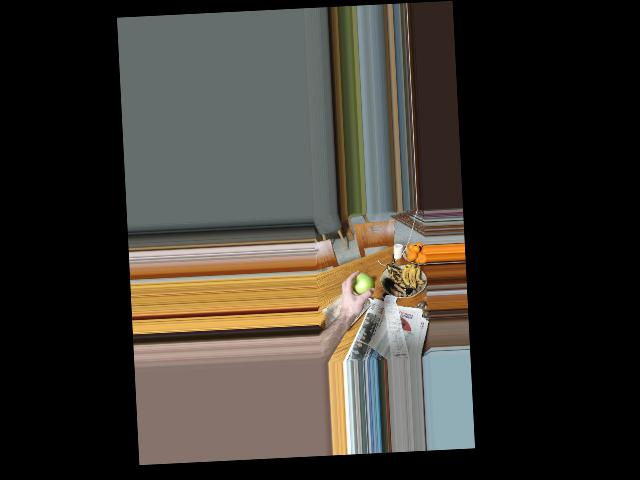apple: (349, 270, 374, 297)
